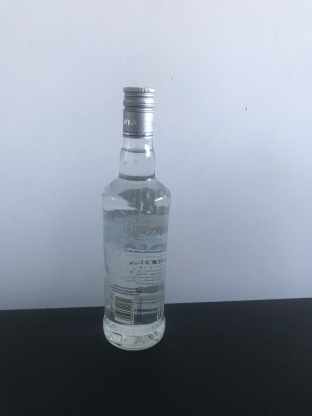nakretka: (121, 84, 156, 139)
